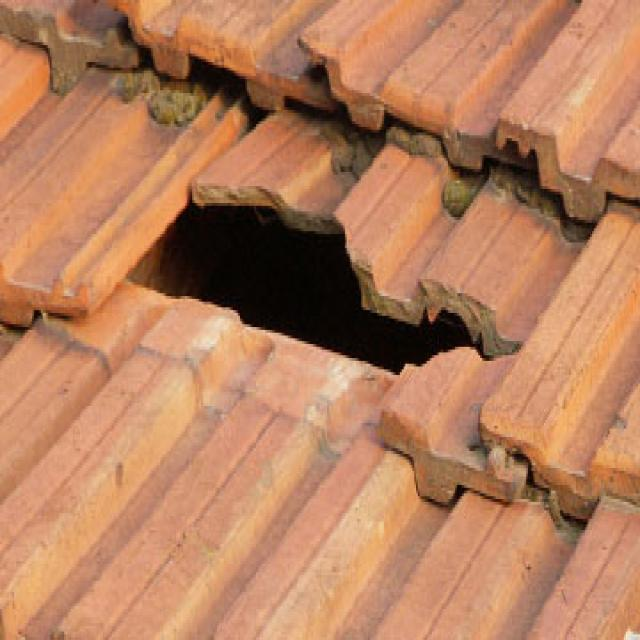damage: (91, 133, 564, 390)
